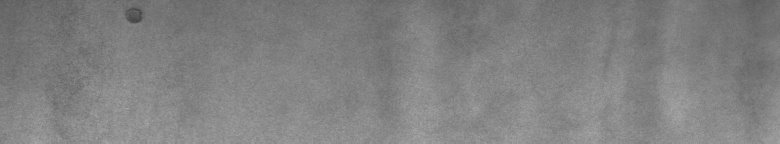fi: (124, 4, 144, 27)
